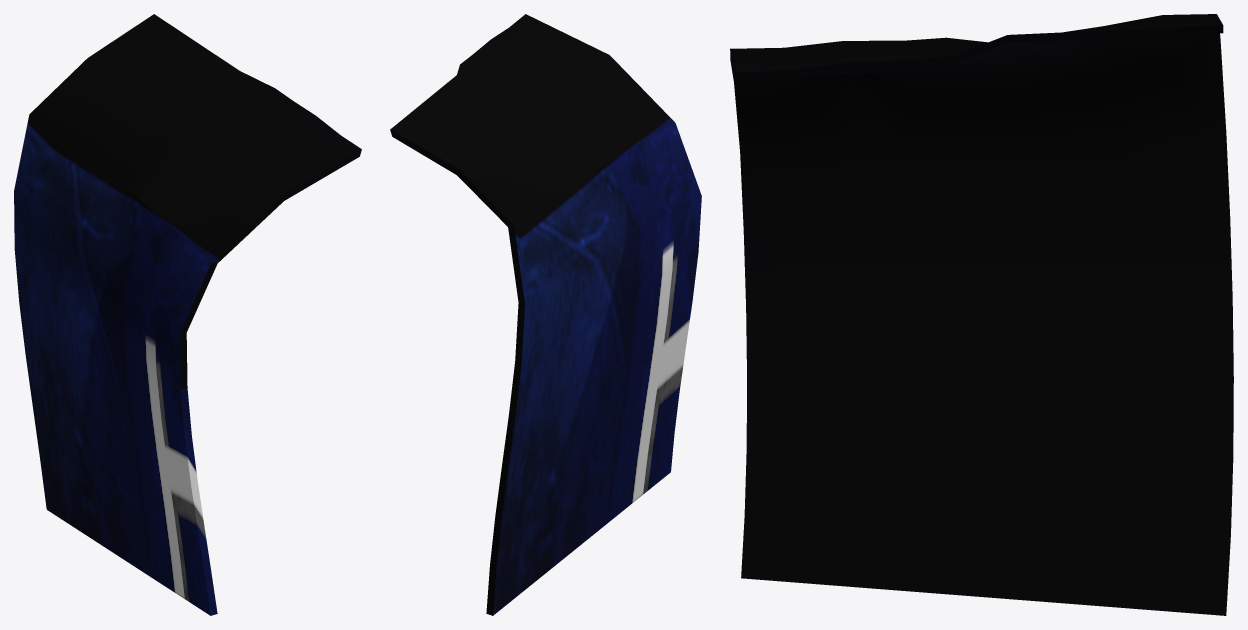
The model's file is poster base.fbx.
3 renders of one model, left to right at view 1: azimuth 30°, elevation 25°; view 2: azimuth 150°, elevation 25°; view 3: azimuth 270°, elevation 25°, orthographic. The views are drawn at different scales.
Parts seen in each view (by area): view 1: Plane; view 2: Plane; view 3: Plane.
Boxes of the visible parts, box(x1,y1,x2,y2) form: Plane: box(14, 14, 361, 615); Plane: box(390, 14, 701, 615); Plane: box(730, 14, 1233, 615).
Size of the model in its own units: 874 by 2168 by 1500.
